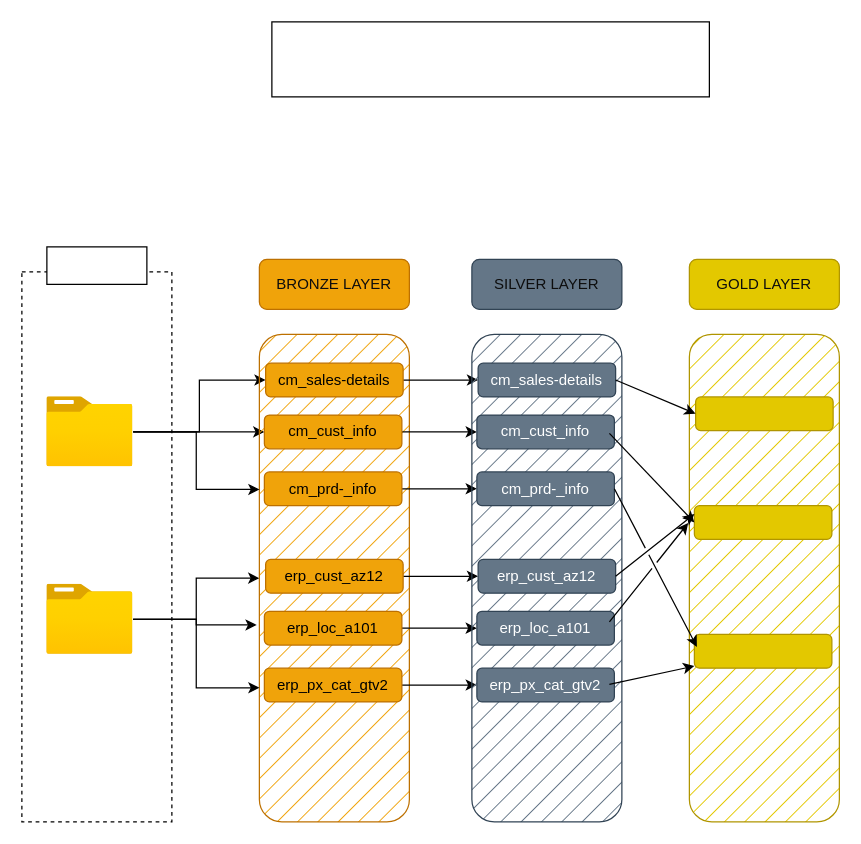
This 861x844 diagram has some shape labels left out. The shapes that lost their labels are listed below. From the top down, each one's centre as x and y in pixels, then its label:
At (x=490, y=59): "DRAW FLOW DIAGRAM".
At (x=96, y=265): "SOURCE".
At (x=89, y=431): "CRM".
At (x=763, y=413): "fact_sales".
At (x=762, y=521): "dim_customers".
At (x=89, y=619): "ERP".
At (x=762, y=650): "dim_products".
